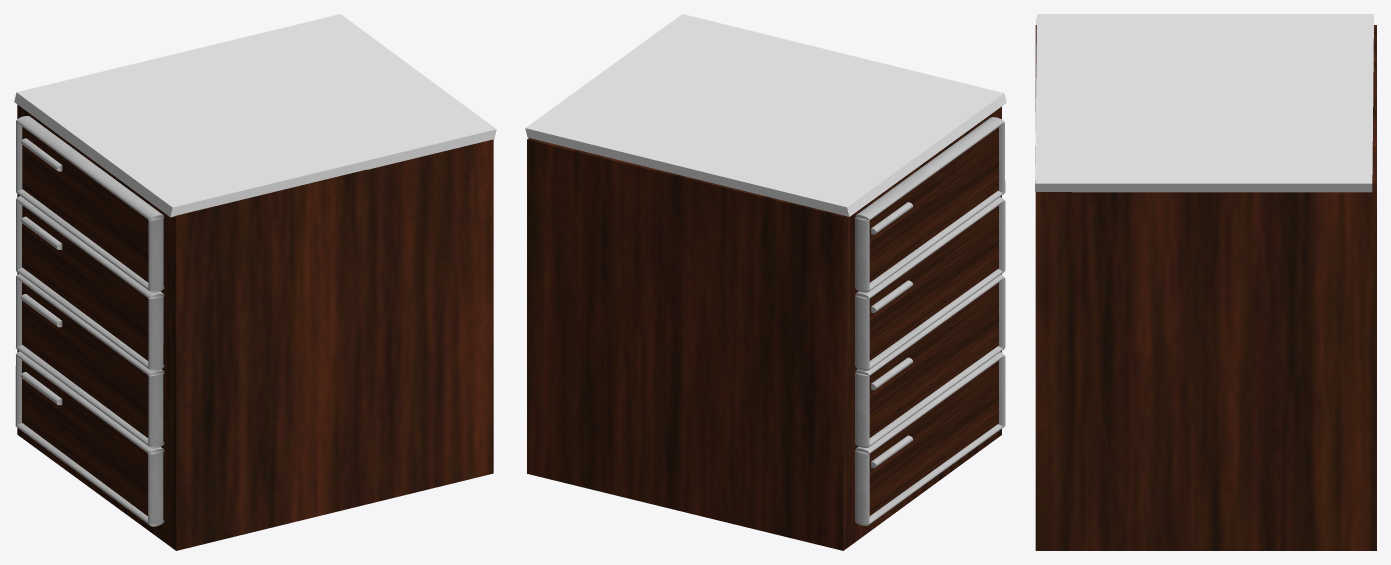
File: Mueble4.obj
The picture shows the model from 3 angles, left to right: view 1: azimuth 30°, elevation 25°; view 2: azimuth 150°, elevation 25°; view 3: azimuth 270°, elevation 25°; orthographic projection. The views are drawn at different scales.
Visible parts, largest first — view 1: pasted__polySurface116 pasted__pasted__polySurface113 group56, pasted__polySurface129 pasted__pasted__polySurface113 group57, pasted__pCube19 group65, pCube19, pasted__pCube19 group64, pasted__pCube19 group63; view 2: pasted__polySurface116 pasted__pasted__polySurface113 group56, pasted__polySurface129 pasted__pasted__polySurface113 group57, pasted__pCube19 group65, pasted__pCube19 group64, pCube19, pasted__pCube19 group63; view 3: pasted__polySurface116 pasted__pasted__polySurface113 group56, pasted__polySurface129 pasted__pasted__polySurface113 group57.
Part boxes in pixels (box(x1,y1,x2,y2)): pasted__polySurface116 pasted__pasted__polySurface113 group56: box(17, 104, 493, 550); pasted__polySurface129 pasted__pasted__polySurface113 group57: box(14, 14, 496, 217); pasted__pCube19 group65: box(16, 116, 164, 292); pCube19: box(15, 351, 164, 526); pasted__pCube19 group64: box(16, 196, 164, 371); pasted__pCube19 group63: box(15, 273, 164, 448); pasted__polySurface116 pasted__pasted__polySurface113 group56: box(527, 106, 1001, 550); pasted__polySurface129 pasted__pasted__polySurface113 group57: box(525, 14, 1006, 216); pasted__pCube19 group65: box(855, 117, 1005, 292); pasted__pCube19 group64: box(855, 197, 1005, 370); pCube19: box(855, 352, 1005, 525); pasted__pCube19 group63: box(855, 274, 1005, 447); pasted__polySurface116 pasted__pasted__polySurface113 group56: box(1035, 25, 1376, 550); pasted__polySurface129 pasted__pasted__polySurface113 group57: box(1035, 14, 1373, 192).
Bounding box in the file's own units: 0.582 × 0.5682 × 0.4766.
22 materials, 22 textured.
